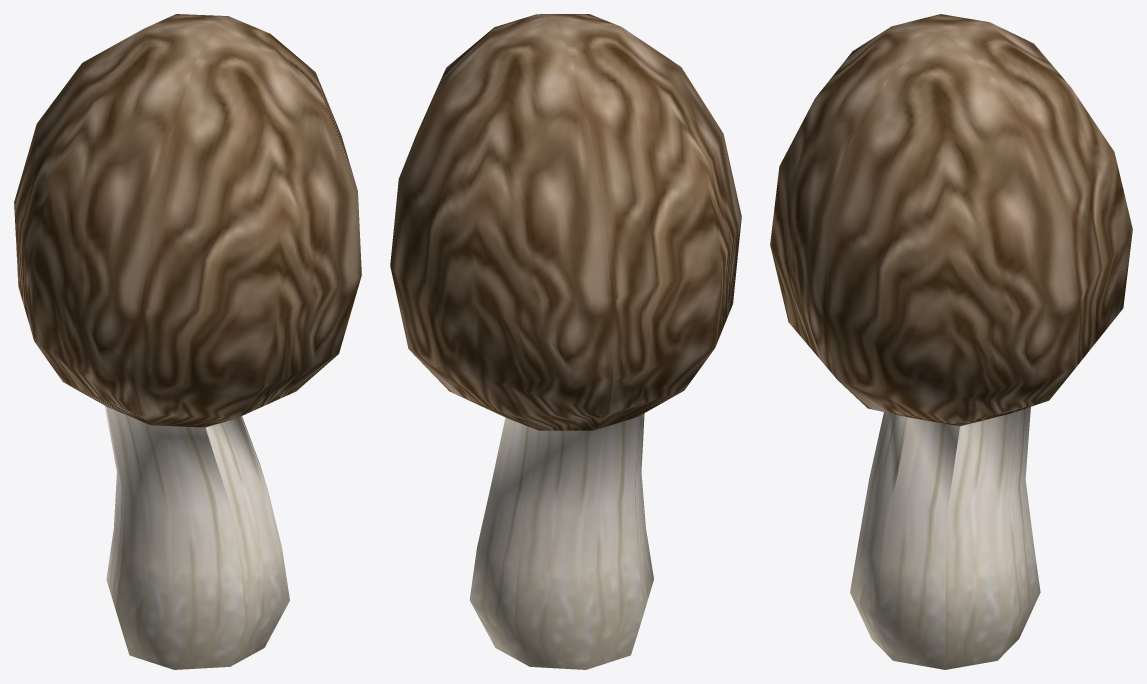
The model's file is pir_m_prp_cav_mushroom_4.fbx.
The picture shows the model from 3 angles, left to right: view 1: azimuth 30°, elevation 25°; view 2: azimuth 150°, elevation 25°; view 3: azimuth 270°, elevation 25°; orthographic projection.
Parts seen in each view (by area): view 1: lod_high; view 2: lod_high; view 3: lod_high.
Part boxes in pixels (bbox=[...]): lod_high: bbox=[14, 14, 361, 669]; lod_high: bbox=[390, 14, 741, 669]; lod_high: bbox=[770, 14, 1132, 669].
Size of the model in its own units: 150 by 280 by 150.
Materials: 1 (1 with a texture image).
